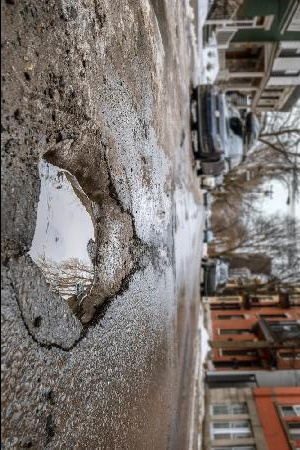pothole: (28, 141, 142, 330), (146, 0, 171, 50)
